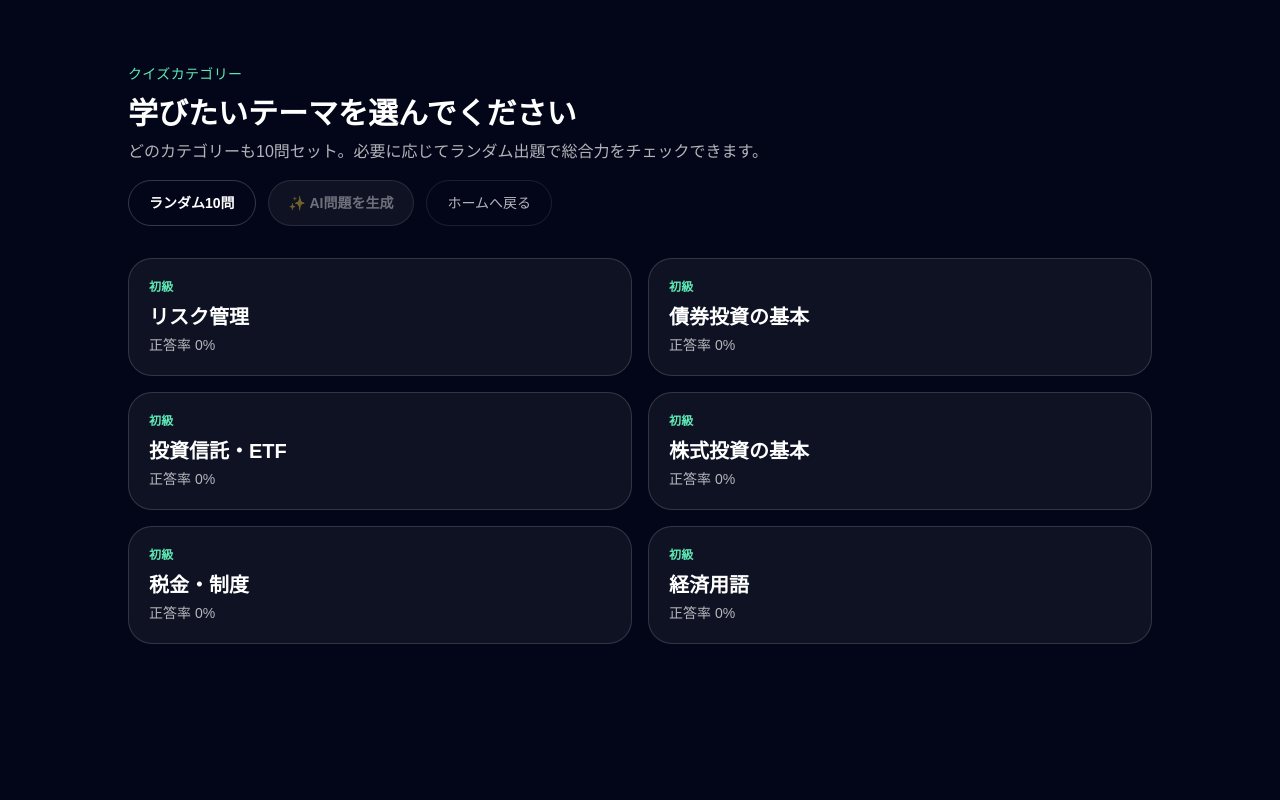
Test: Quiz page › renders category selector buttons and starts a quiz
Click the button "初級 株式投資の基本 正答率 0%".
click(739, 451)  # box x1=648 y1=392 x2=1152 y2=510
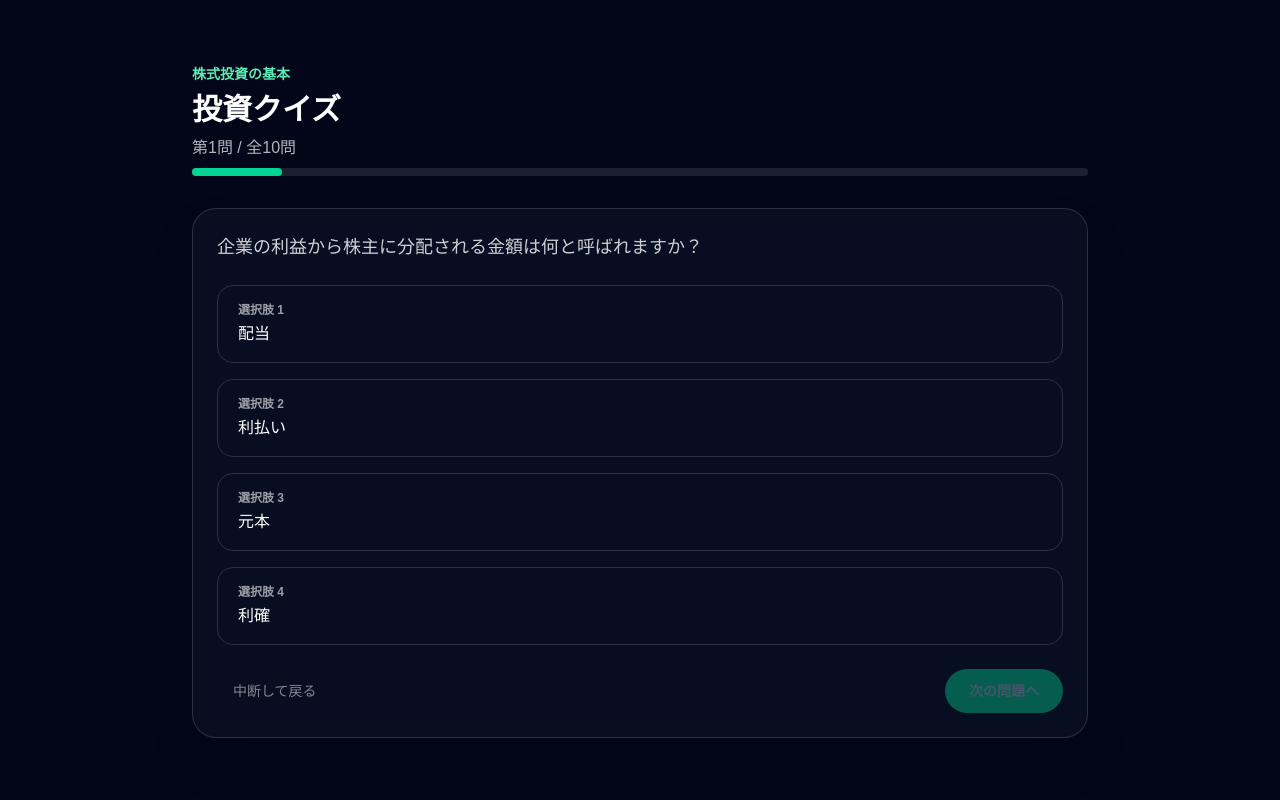
Check: the text "第1問 / 全10問" is shown, box x1=192 y1=139 x2=296 y2=156
